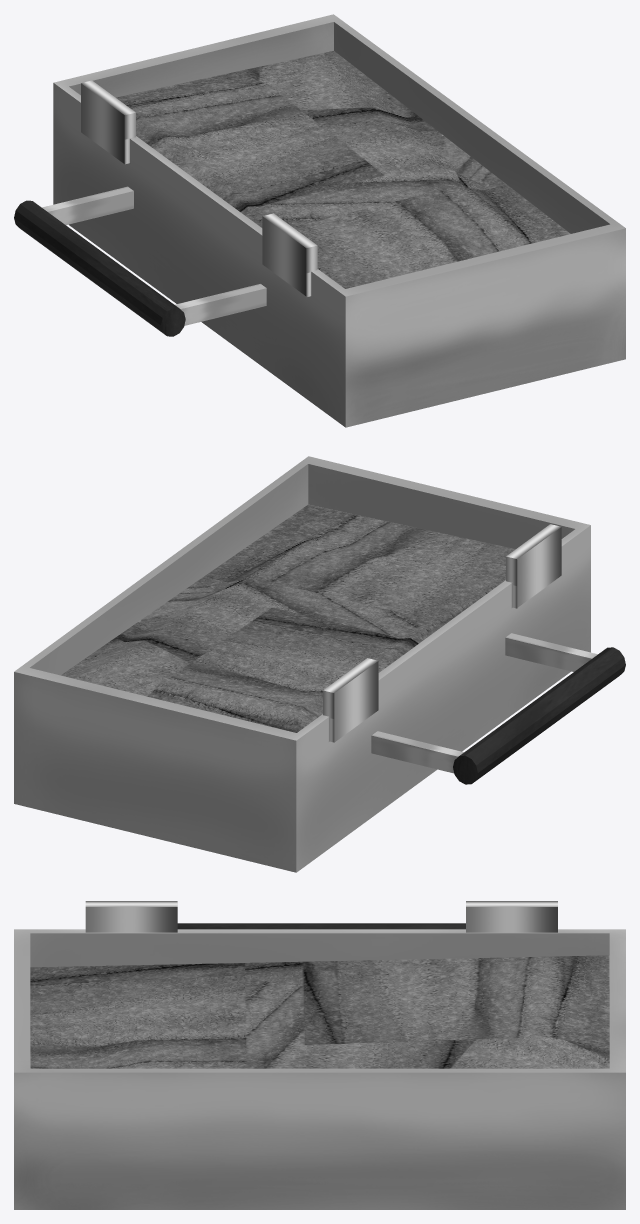
The model's file is LuggageBottom.fbx.
3 views of the same model, one above another, from view 1: azimuth 30°, elevation 25°; view 2: azimuth 150°, elevation 25°; view 3: azimuth 270°, elevation 25° (orthographic). The views are drawn at different scales.
Parts seen in each view (by area): view 1: LuggageBottom; view 2: LuggageBottom; view 3: LuggageBottom.
Boxes of the visible parts, x1=… form: LuggageBottom: x1=14, y1=14, x2=625, y2=427; LuggageBottom: x1=14, y1=456, x2=625, y2=872; LuggageBottom: x1=14, y1=901, x2=625, y2=1209.
Bounding box in the file's own units: 1.68 × 0.7058 × 2.18.
